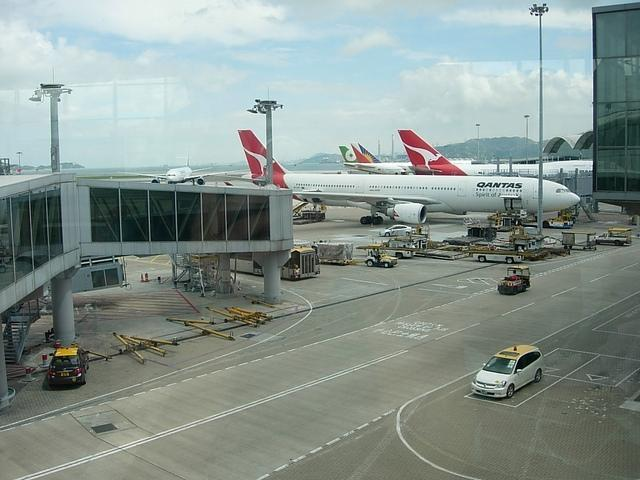car: (471, 344, 544, 399), (46, 348, 90, 389), (364, 244, 398, 269), (379, 224, 412, 237)
truck: (280, 245, 321, 279), (310, 241, 353, 266), (498, 266, 530, 296), (461, 250, 525, 264), (594, 228, 632, 246)
